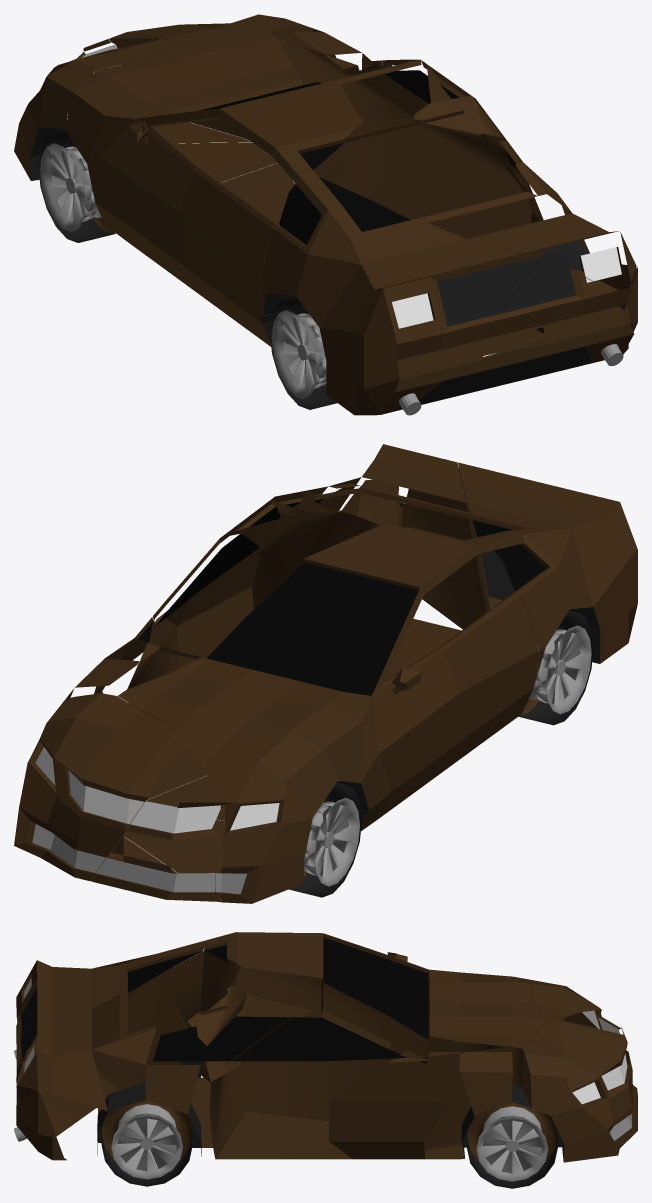
The model's file is brokenmedium2.fbx.
The picture shows the model from 3 angles, top to bottom: view 1: azimuth 30°, elevation 25°; view 2: azimuth 150°, elevation 25°; view 3: azimuth 270°, elevation 25°; orthographic projection. The views are drawn at different scales.
Visible parts, largest first — view 1: Cube_cell.008, Cube_cell.001, Cube_cell.012, Cube_cell.007, Cube_cell.004, Cube_cell.005, Cube.003, Cube.002, Cube_cell.009, Cube_cell.006, Cube_cell.010, Cube_cell.002 (+2 smaller); view 2: Cube_cell.008, Cube_cell.001, Cube_cell.009, Cube_cell.004, Cube_cell.005, Cube_cell.012, Cube_cell.010, Cube.002, Cube.003, Cube_cell.002, Cube_cell.007, Cube_cell (+1 smaller); view 3: Cube_cell.005, Cube_cell.012, Cube_cell.008, Cube_cell.002, Cube_cell.009, Cube_cell.001, Cube.005, Cube.004, Cube_cell, Cube_cell.004, Cube_cell.011, Cube_cell.006 (+2 smaller).
Boxes of the visible parts, bbox=[...] form: Cube_cell.008: bbox=[67, 33, 363, 346]; Cube_cell.001: bbox=[259, 168, 544, 415]; Cube_cell.012: bbox=[314, 119, 636, 361]; Cube_cell.007: bbox=[408, 255, 626, 415]; Cube_cell.004: bbox=[14, 39, 277, 182]; Cube_cell.005: bbox=[277, 38, 430, 183]; Cube.003: bbox=[38, 128, 115, 242]; Cube.002: bbox=[270, 295, 337, 409]; Cube_cell.009: bbox=[109, 14, 311, 140]; Cube_cell.006: bbox=[413, 95, 504, 137]; Cube_cell.010: bbox=[68, 38, 252, 143]; Cube_cell.002: bbox=[271, 27, 382, 69]; Cube_cell.008: bbox=[118, 525, 538, 830]; Cube_cell.001: bbox=[458, 462, 637, 676]; Cube_cell.009: bbox=[14, 693, 173, 881]; Cube_cell.004: bbox=[123, 725, 341, 903]; Cube_cell.005: bbox=[127, 511, 379, 799]; Cube_cell.012: bbox=[308, 444, 490, 680]; Cube_cell.010: bbox=[91, 737, 227, 901]; Cube.002: bbox=[518, 610, 593, 725]; Cube.003: bbox=[289, 783, 361, 897]; Cube_cell.002: bbox=[66, 617, 155, 698]; Cube_cell.007: bbox=[458, 468, 522, 608]; Cube_cell: bbox=[226, 500, 304, 533]; Cube_cell.005: bbox=[209, 967, 508, 1159]; Cube_cell.012: bbox=[16, 947, 240, 1159]; Cube_cell.008: bbox=[205, 932, 543, 1048]; Cube_cell.002: bbox=[329, 1047, 531, 1159]; Cube_cell.009: bbox=[521, 1021, 637, 1162]; Cube_cell.001: bbox=[14, 940, 205, 1058]; Cube.005: bbox=[101, 1100, 192, 1186]; Cube.004: bbox=[466, 1101, 557, 1188]; Cube_cell: bbox=[206, 995, 312, 1081]; Cube_cell.004: bbox=[496, 978, 602, 1048]; Cube_cell.011: bbox=[16, 1085, 64, 1160]; Cube_cell.006: bbox=[187, 985, 246, 1045].
Bounding box in the file's own units: 185 × 133 × 449.
